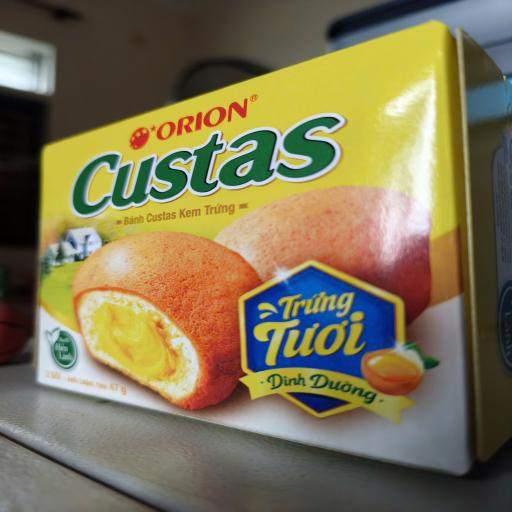custas: (34, 20, 512, 476)
